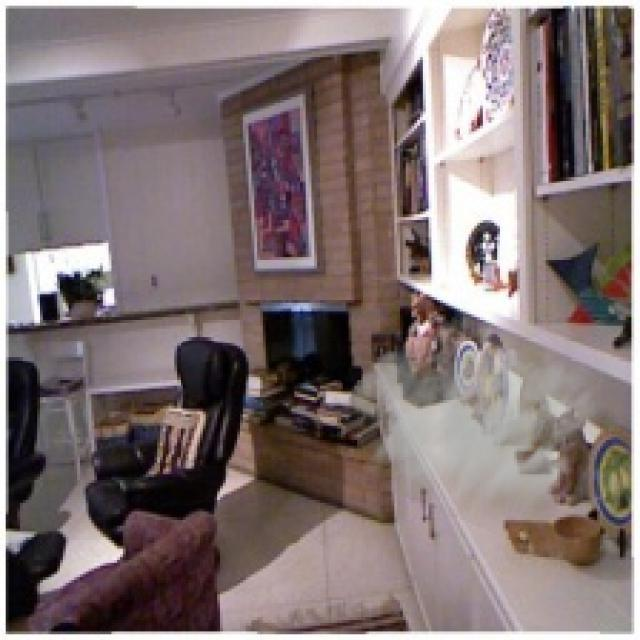Smoke: (332, 308, 614, 546)
